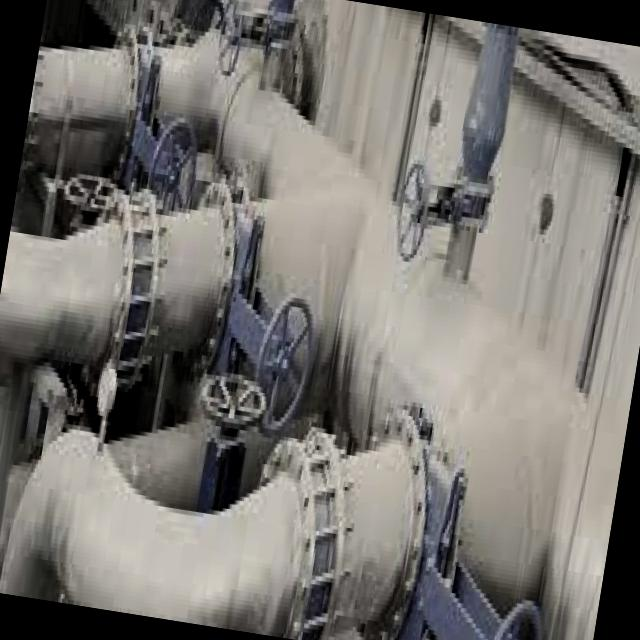gas: (0, 33, 372, 430), (330, 206, 572, 611), (0, 413, 426, 640), (398, 23, 519, 278)
